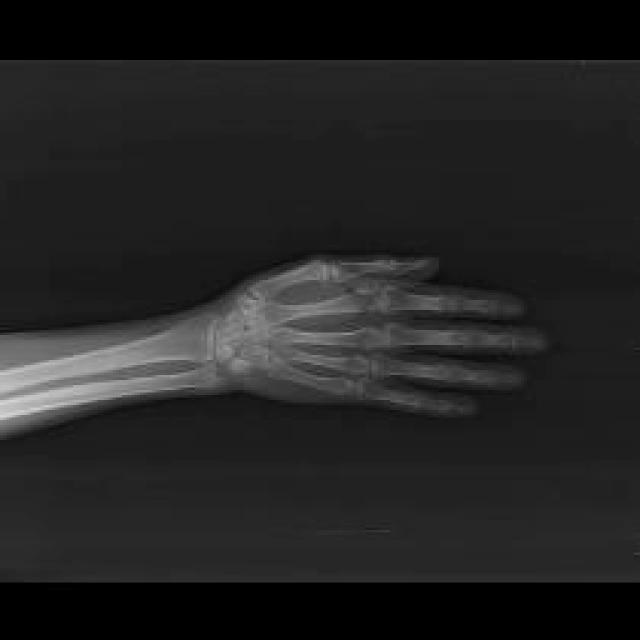normal: (0, 258, 536, 420)
